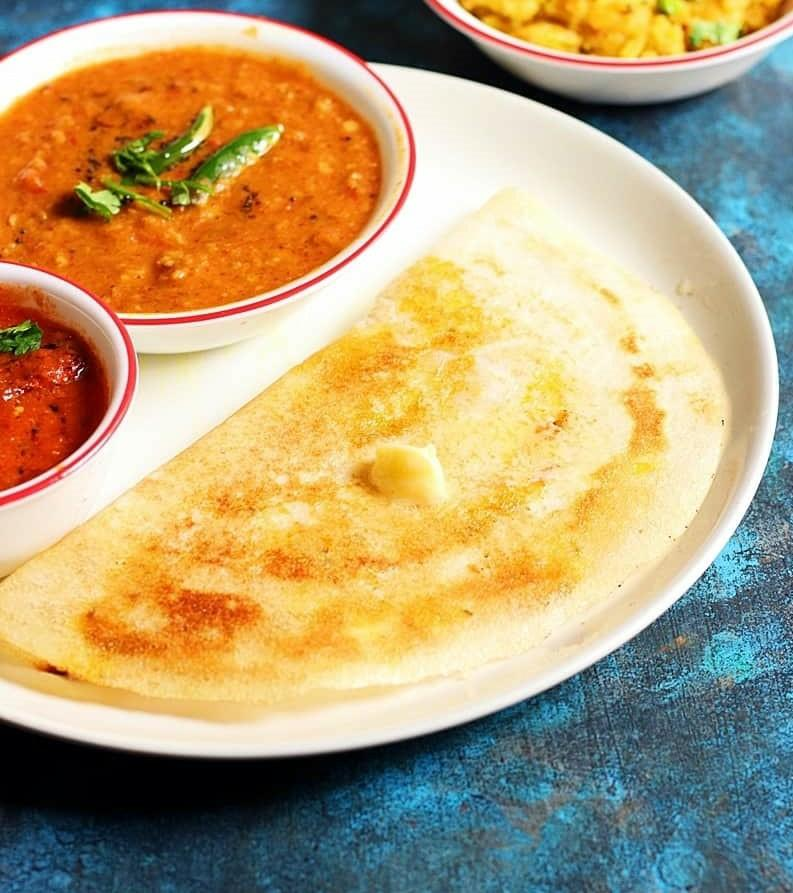Dosa: (0, 188, 722, 702)
